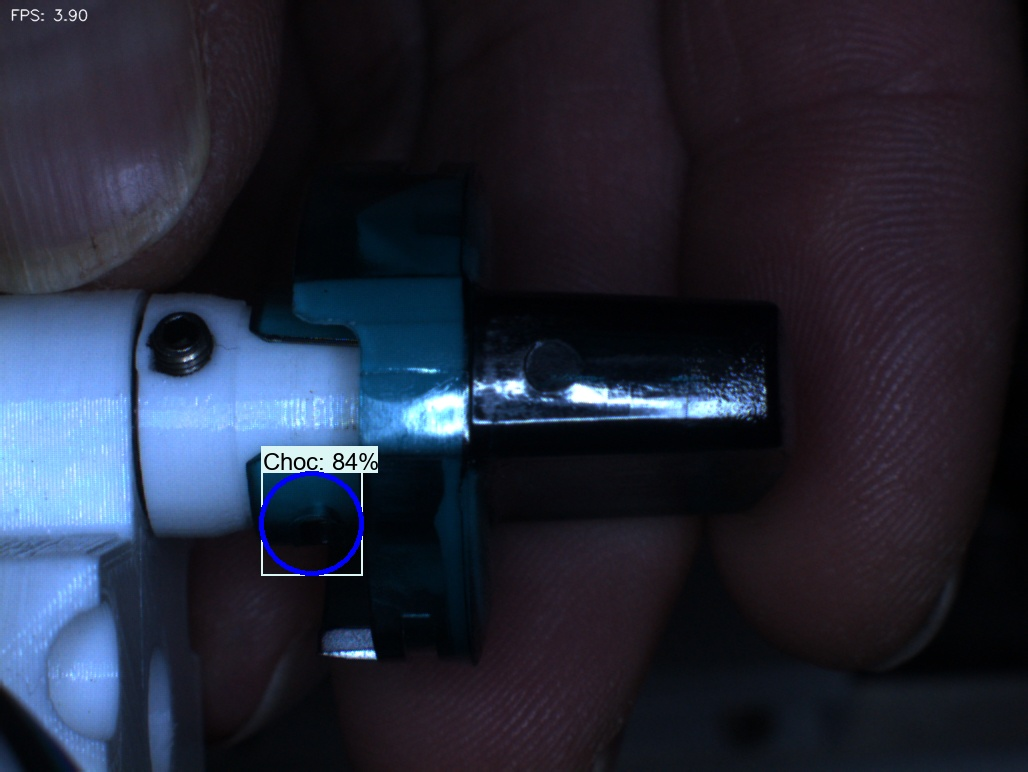DentOk: (331, 182, 401, 282)
